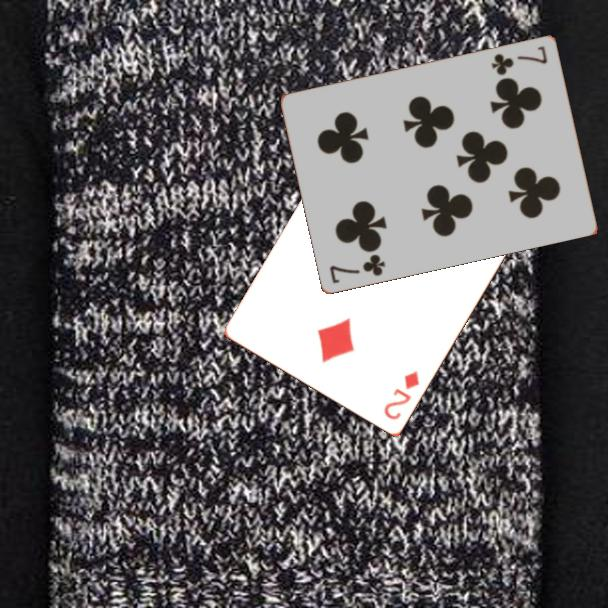c07: (488, 42, 550, 78), (326, 250, 388, 286)
d02: (380, 368, 422, 423)
